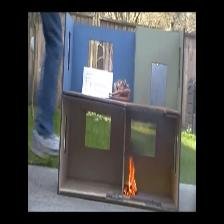fire: (124, 151, 139, 192)
